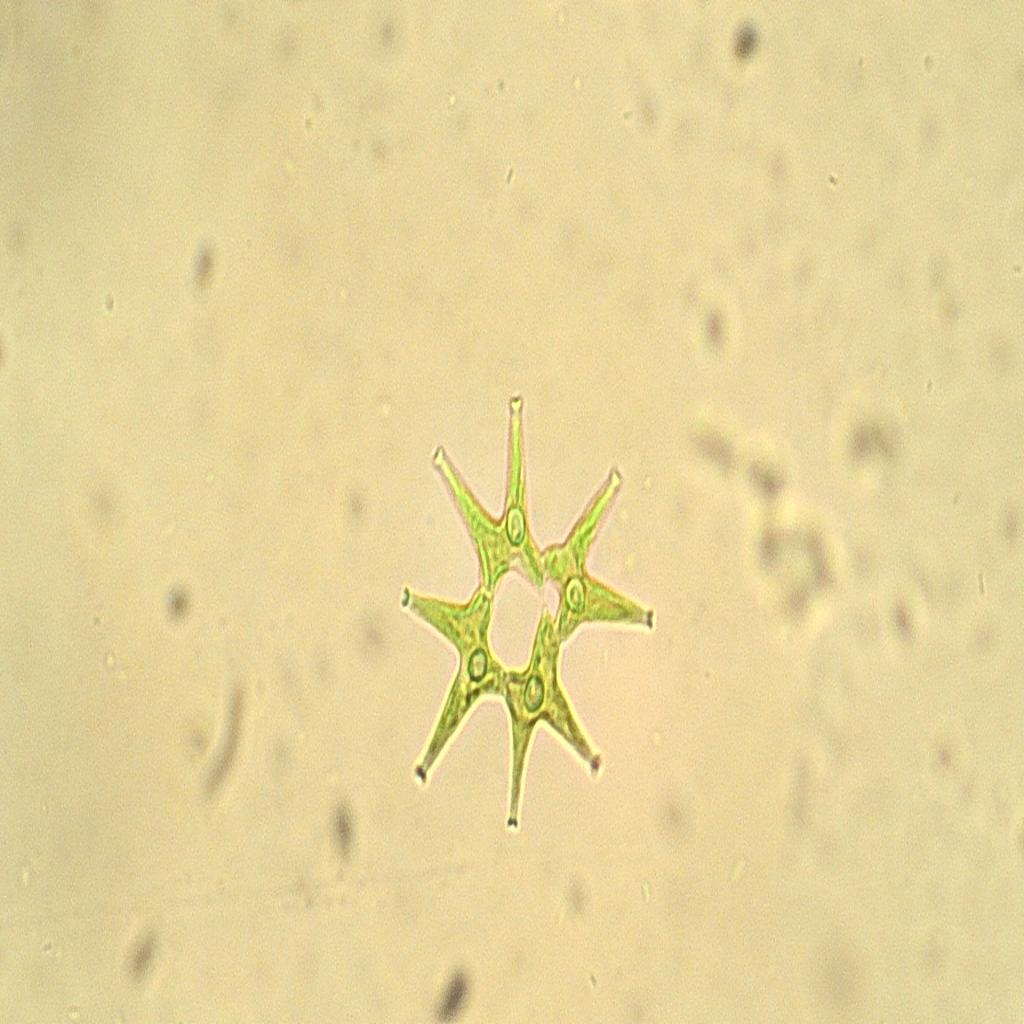Pediastrum_CF: (381, 374, 669, 845)
